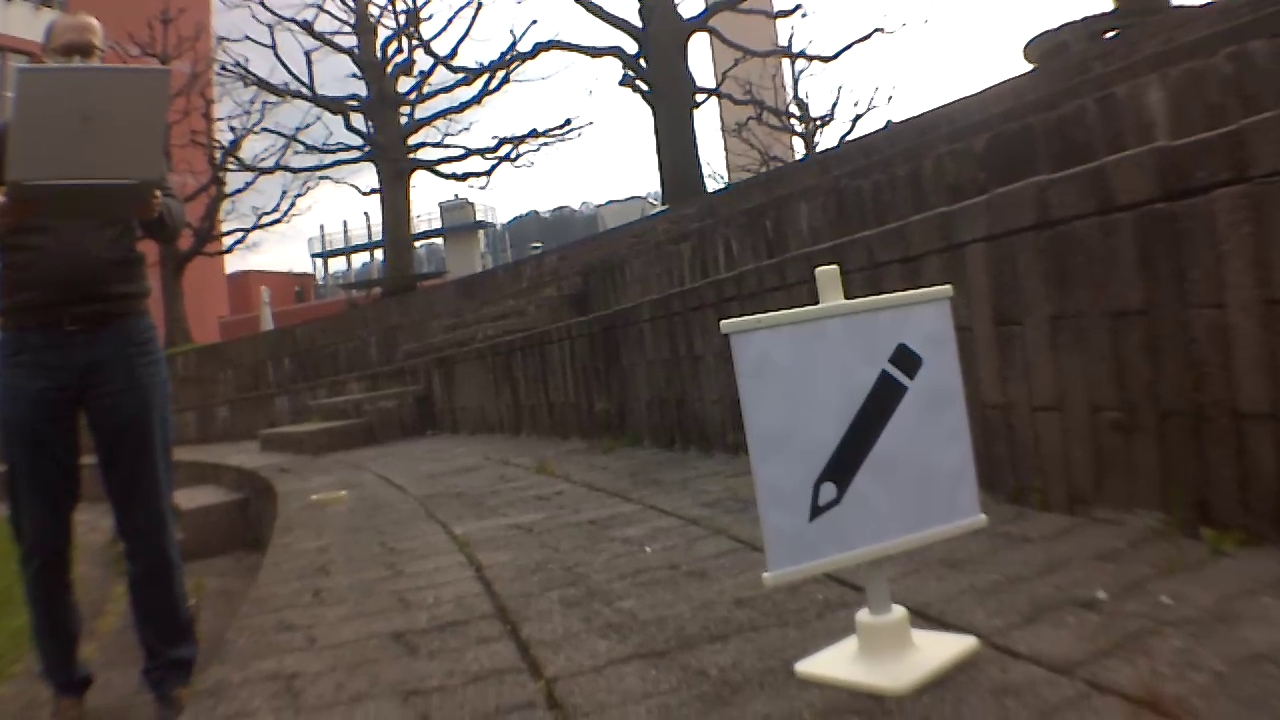pencil: (808, 336, 935, 522)
